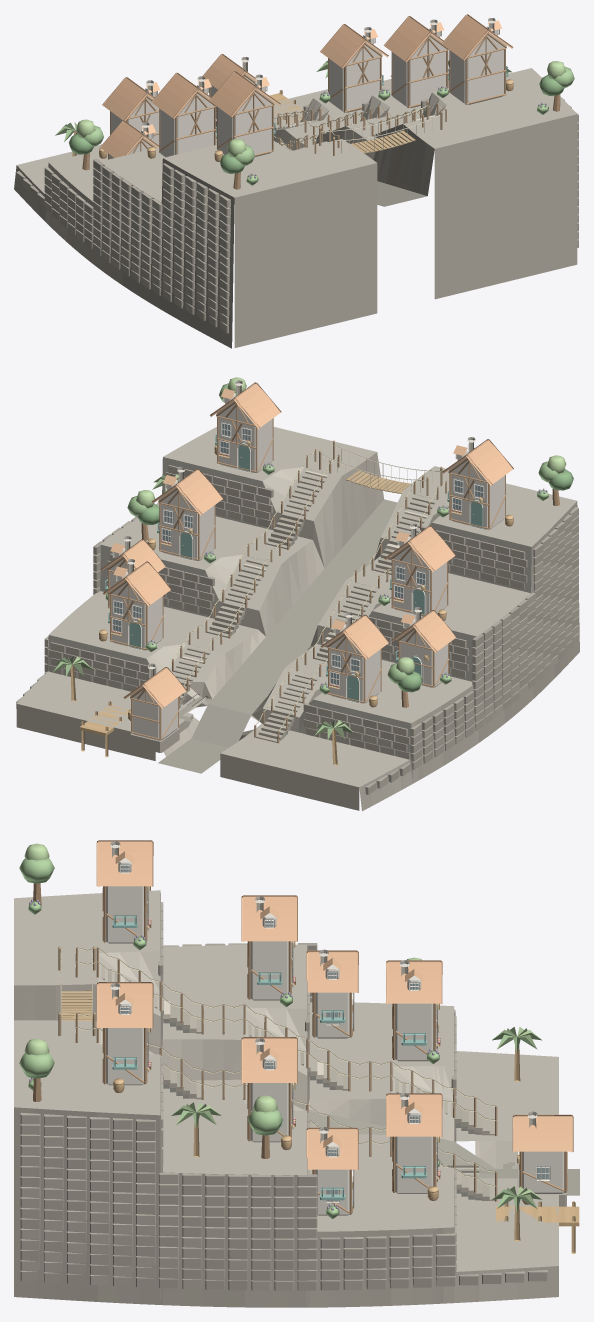
The model's file is gorge.glb.
3 views of the same model, one above another, from view 1: azimuth 30°, elevation 25°; view 2: azimuth 150°, elevation 25°; view 3: azimuth 270°, elevation 25° (orthographic). The views are drawn at different scales.
Visible parts, largest first — view 1: gorge; view 2: gorge; view 3: gorge.
Boxes of the visible parts, x1,y1,x2,y2 form: gorge: (14,14,578,348); gorge: (16,377,579,811); gorge: (14,840,579,1307).
Bounding box in the file's own units: 26.43 × 15 × 27.
